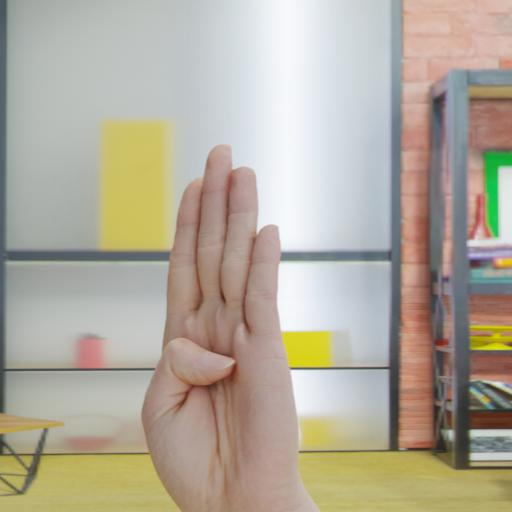B: (133, 137, 330, 512), (132, 140, 323, 511)
